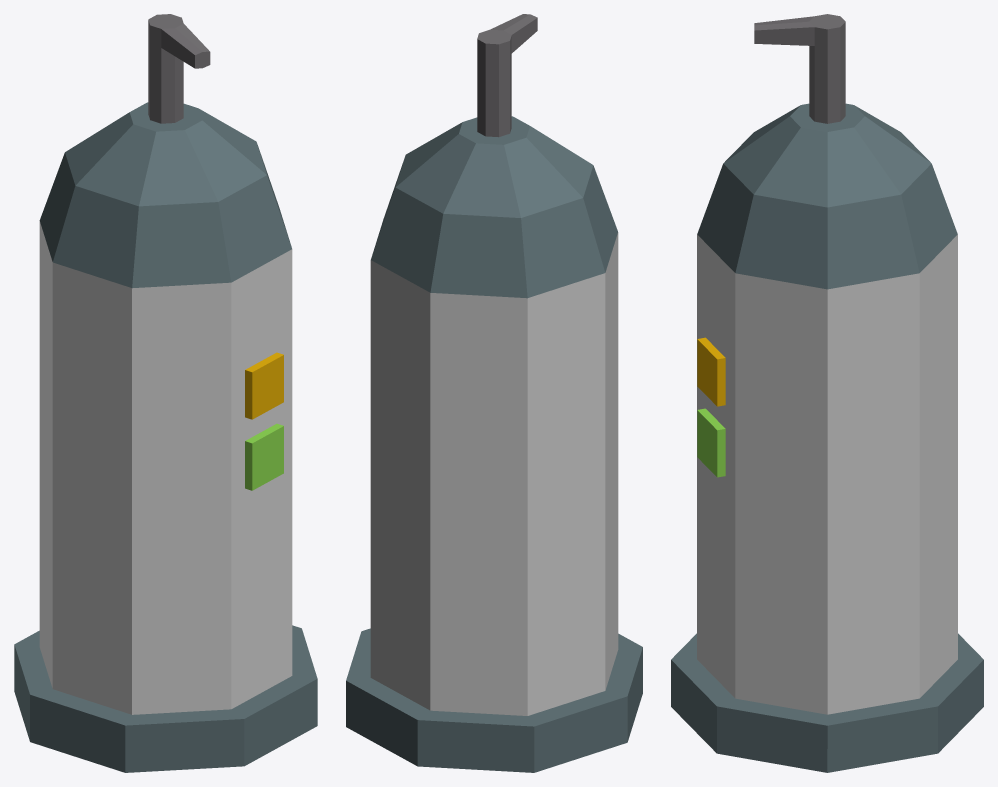
The model's file is scifi_cylinder_1.fbx.
3 renders of one model, left to right at view 1: azimuth 30°, elevation 25°; view 2: azimuth 150°, elevation 25°; view 3: azimuth 270°, elevation 25°, orthographic. The views are drawn at different scales.
Visible parts, largest first — view 1: Cylinder.001; view 2: Cylinder.001; view 3: Cylinder.001.
Boxes of the visible parts, left/top/right/bottom form: Cylinder.001: left=14, top=14, right=317, bottom=772; Cylinder.001: left=346, top=14, right=642, bottom=772; Cylinder.001: left=671, top=14, right=983, bottom=772.
Bounding box in the file's own units: 0.6 × 1.45 × 0.6.
